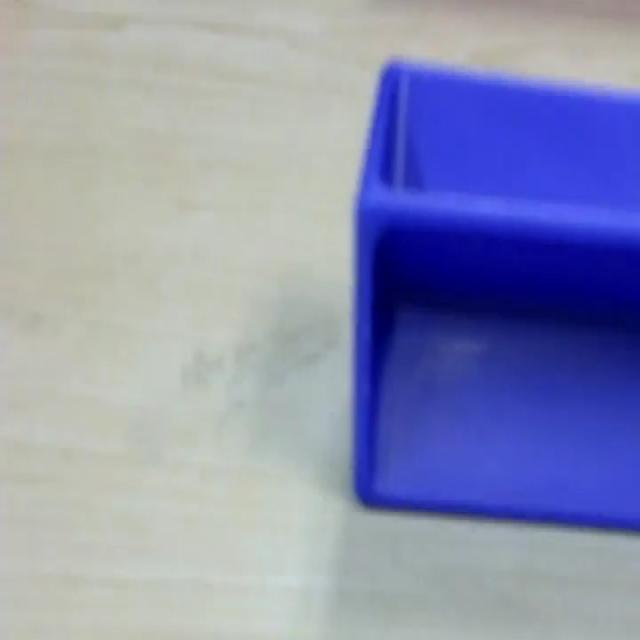blue_block: (350, 53, 638, 531)
